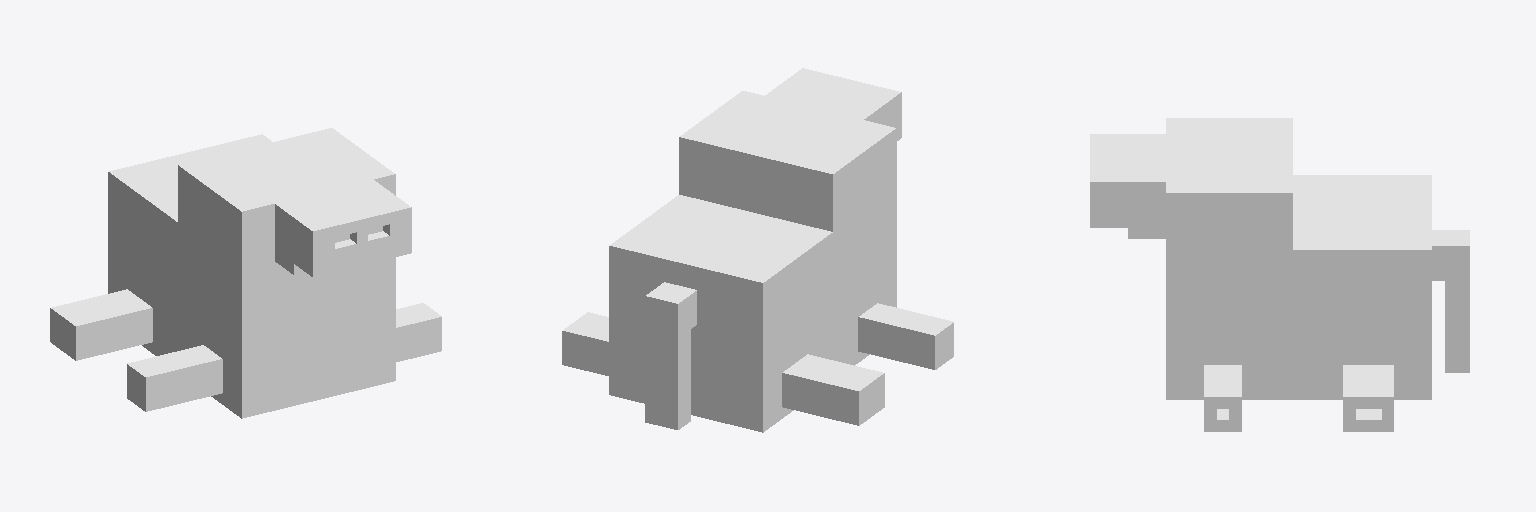
Rendered from flatsteer.obj.
3 views of the same model, side by side, from view 1: azimuth 30°, elevation 25°; view 2: azimuth 150°, elevation 25°; view 3: azimuth 270°, elevation 25° (orthographic).
Parts seen in each view (by area): view 1: flatsteer; view 2: flatsteer; view 3: flatsteer.
Part boxes in pixels (x1,y1,x2,y2): flatsteer: (50, 128, 441, 418); flatsteer: (562, 68, 953, 432); flatsteer: (1090, 118, 1469, 431).
Bounding box in the file's own units: 27 × 18 × 30.